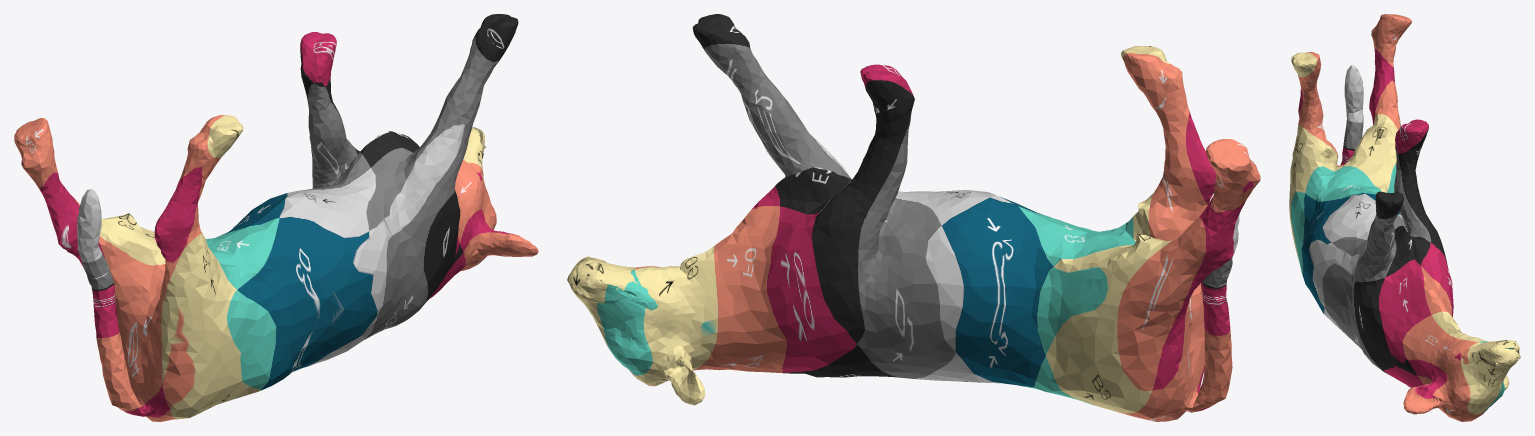
File: fox_02-cow_06.obj
3 views of the same model, side by side, from view 1: azimuth 30°, elevation 25°; view 2: azimuth 150°, elevation 25°; view 3: azimuth 270°, elevation 25° (orthographic). The views are drawn at different scales.
Parts seen in each view (by area): view 1: fox_02-cow_06_export; view 2: fox_02-cow_06_export; view 3: fox_02-cow_06_export.
Part boxes in pixels (x1=…): fox_02-cow_06_export: x1=14, y1=14, x2=538, y2=421; fox_02-cow_06_export: x1=567, y1=14, x2=1260, y2=421; fox_02-cow_06_export: x1=1289, y1=14, x2=1520, y2=421.
Size of the model in its own units: 0.9906 by 0.5382 by 0.4724.
